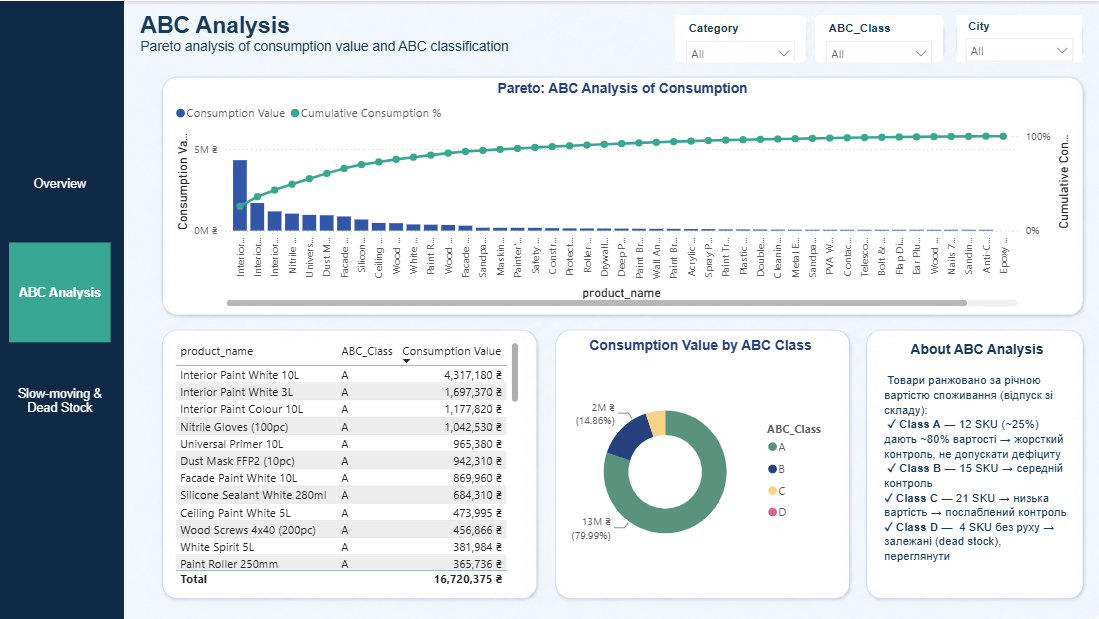

The page's visual inventory and layout, read from the dashboard file:
{"tool":"powerbi","page":{"name":" ABC Analysis","canvas":[1280,720],"ordinal":1},"visuals":[{"type":"lineClusteredColumnComboChart","title":"Pareto: ABC Analysis of Consumption","fields":{"Category":["Products.product_name"],"Y":["My_measures.Consumption Value"],"Y2":["My_measures.Cumulative Consumption %"]},"box":[198.6,92.9,1048.9,267.2],"z":0},{"type":"donutChart","title":"Consumption Value by ABC Class","fields":{"Category":["Products.ABC_Class"],"Y":["My_measures.Consumption Value"]},"box":[649.3,391.4,328.7,293.9],"z":1000},{"type":"tableEx","fields":{"Values":["Products.product_name","Products.ABC_Class","My_measures.Consumption Value"]},"box":[198.6,391.4,408.9,293.9],"z":2000},{"type":"slicer","fields":{"Values":["Products.category"]},"box":[784,16.3,152.2,54.6],"z":3000},{"type":"slicer","fields":{"Values":["Products.ABC_Class"]},"box":[946.6,16.3,148.7,54.6],"z":4000},{"type":"slicer","fields":{"Values":["Warehouses.city"]},"box":[1111.6,16.3,145.2,54.6],"z":5000},{"type":"shape","box":[0,0,144,720.1],"z":6000},{"type":"pageNavigator","box":[10.5,154.5,118.5,370.5],"z":7000},{"type":"textbox","box":[1022.1,391.4,225.3,293.9],"z":8000},{"type":"textbox","box":[158,8.1,499.5,62.7],"z":9000}]}

Visuals, with their boxes on the page's 1280x720 design canvas (x1, y1, x2, y2). These are canvas units, not pixel positions in the 1099x619 screenshot, which may show the page scaled, cropped or inside an application window:
"Pareto: ABC Analysis of Consumption" lineClusteredColumnComboChart: bbox=[199, 93, 1248, 360]
"Consumption Value by ABC Class" donutChart: bbox=[649, 391, 978, 685]
tableEx - Products.product_name x Products.ABC_Class: bbox=[199, 391, 608, 685]
slicer - Products.category: bbox=[784, 16, 936, 71]
slicer - Products.ABC_Class: bbox=[947, 16, 1095, 71]
slicer - Warehouses.city: bbox=[1112, 16, 1257, 71]
shape: bbox=[0, 0, 144, 720]
pageNavigator: bbox=[10, 154, 129, 525]
textbox: bbox=[1022, 391, 1247, 685]
textbox: bbox=[158, 8, 658, 71]
